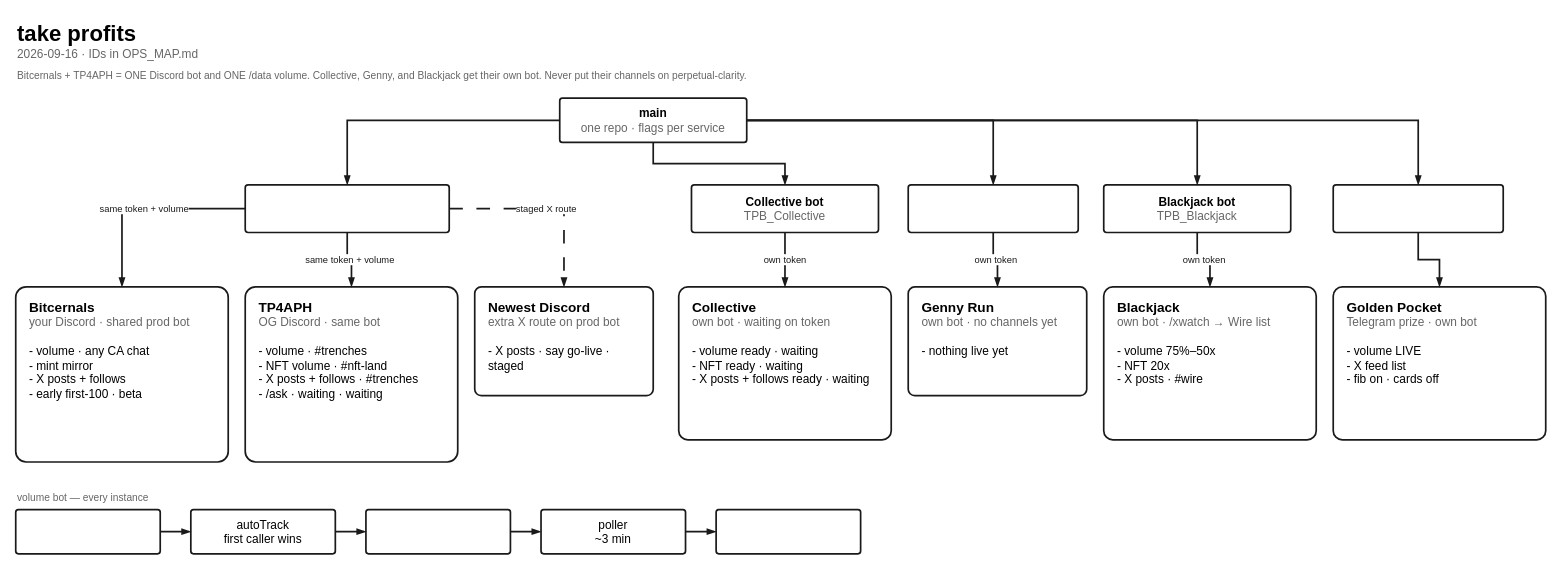
Image size: 1561x569. Some labels were removed from this diagram. The centre of each missing label's shape, as x and y in pixels:
/data tracked.json: the point at 438,531
CA / NFT url pasted in chat: the point at 87,531
card in that OG channel: the point at 788,531
Genny bot TPB_Genny_Run: the point at 993,208
GP bot telegram: the point at 1418,208
prod bot perpetual-clarity: the point at 347,208
